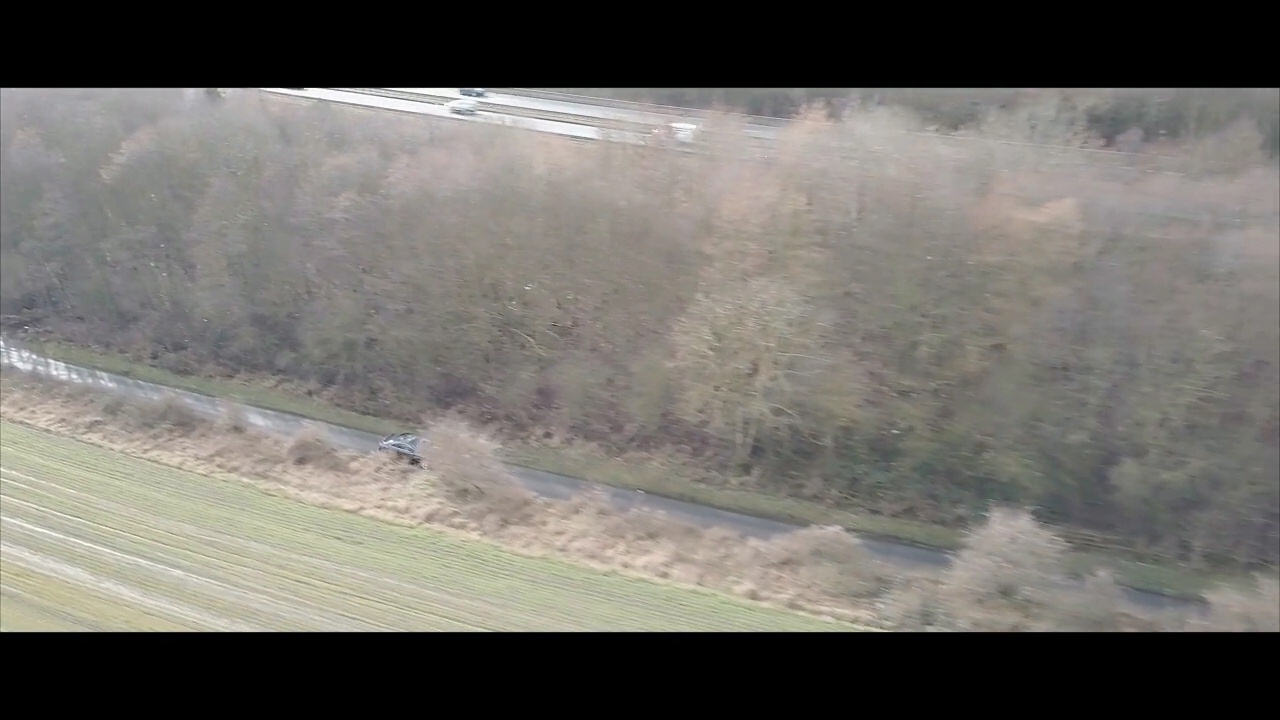araba: (375, 431, 442, 472)
